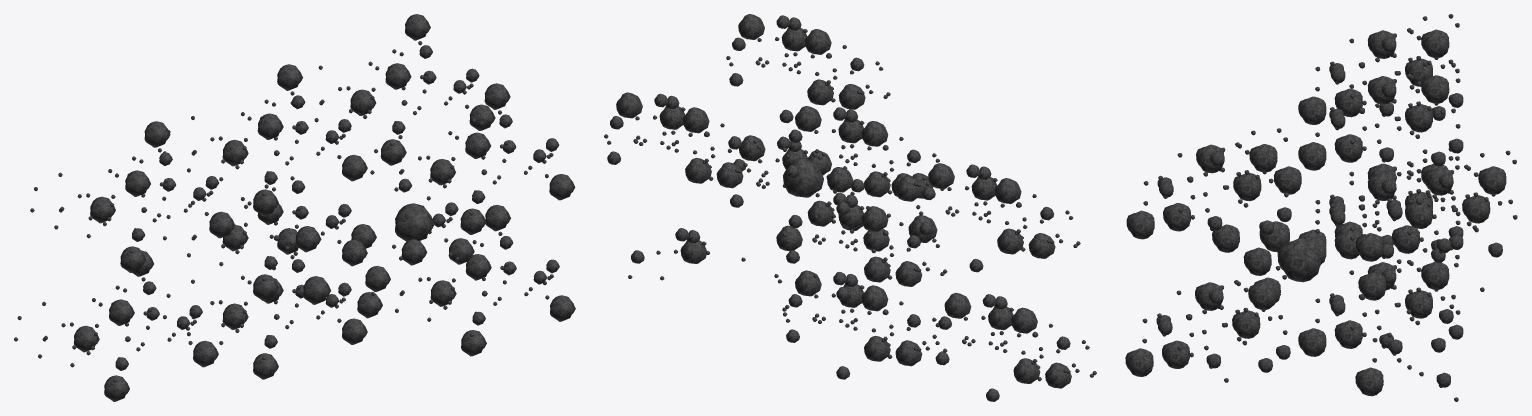
The model's file is Asteroids.fbx.
The picture shows the model from 3 angles, left to right: view 1: azimuth 30°, elevation 25°; view 2: azimuth 150°, elevation 25°; view 3: azimuth 270°, elevation 25°; orthographic projection. The views are drawn at different scales.
Parts seen in each view (by area): view 1: untitled__251_, untitled__288_, untitled__344_, untitled__151_, untitled__247_, untitled__100_, untitled__340_, untitled__152_, untitled__200_, untitled__148_, untitled__46_, untitled__199_ (+29 smaller); view 2: untitled__251_, untitled__148_, untitled__100_, untitled__47_, untitled__55_, untitled__340_, untitled__151_, untitled__343_, untitled__199_, untitled__247_, untitled__196_, untitled__103_ (+28 smaller); view 3: untitled__251_, untitled__296_, untitled__248_, untitled__344_, untitled__340_, untitled__56_, untitled__104_, untitled__392_, untitled__244_, untitled__388_, untitled__100_, untitled__148_ (+27 smaller).
Boxes of the visible parts, x1,y1,x2,y2 form: untitled__251_: [395, 203, 434, 241]; untitled__288_: [303, 276, 330, 304]; untitled__344_: [549, 174, 575, 200]; untitled__151_: [125, 170, 150, 196]; untitled__247_: [385, 63, 411, 89]; untitled__100_: [277, 64, 302, 90]; untitled__340_: [484, 83, 510, 109]; untitled__152_: [209, 211, 235, 238]; untitled__200_: [193, 340, 218, 367]; untitled__148_: [144, 121, 170, 147]; untitled__46_: [342, 239, 367, 266]; untitled__199_: [109, 299, 134, 325]; untitled__251_: [783, 157, 823, 197]; untitled__148_: [928, 163, 954, 188]; untitled__100_: [795, 106, 821, 131]; untitled__47_: [861, 206, 888, 231]; untitled__55_: [861, 285, 888, 311]; untitled__340_: [738, 14, 764, 39]; untitled__151_: [994, 178, 1021, 203]; untitled__343_: [805, 29, 831, 54]; untitled__199_: [1011, 307, 1037, 333]; untitled__247_: [682, 107, 709, 133]; untitled__196_: [944, 293, 971, 318]; untitled__103_: [861, 121, 888, 146]; untitled__251_: [1277, 238, 1320, 282]; untitled__296_: [1355, 367, 1383, 396]; untitled__248_: [1355, 233, 1383, 261]; untitled__344_: [1126, 210, 1154, 239]; untitled__340_: [1249, 144, 1277, 172]; untitled__56_: [1298, 328, 1326, 356]; untitled__104_: [1298, 142, 1326, 170]; untitled__392_: [1125, 348, 1153, 376]; untitled__244_: [1478, 166, 1506, 194]; untitled__388_: [1248, 281, 1276, 310]; untitled__100_: [1421, 75, 1449, 103]; untitled__148_: [1421, 29, 1449, 58].
Bounding box in the file's own units: 617479 × 342054 × 390441.
